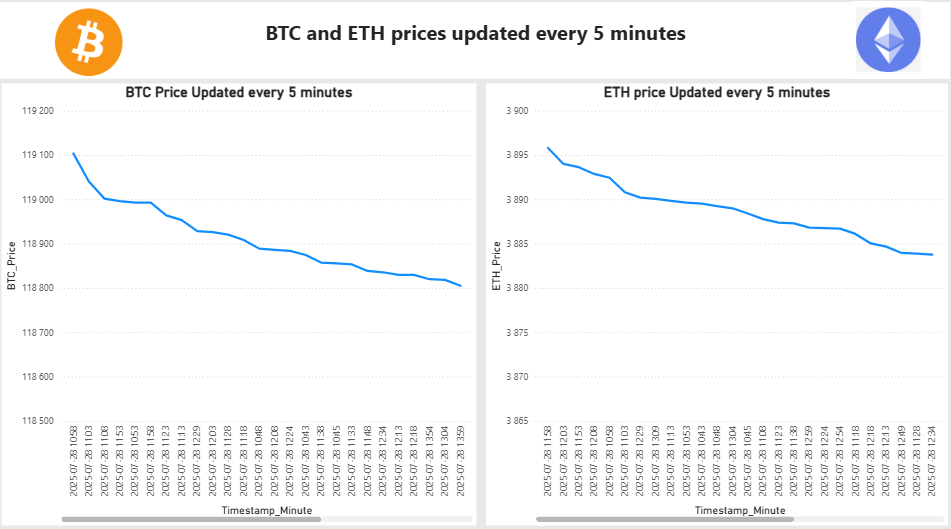

What the dashboard file says about the page in this screenshot:
{"tool":"powerbi","page":{"name":"Page 1","canvas":[1280,720],"ordinal":0},"visuals":[{"type":"image","box":[0,0,1279.4,720],"z":0},{"type":"lineChart","title":"BTC Price Updated every 5 minutes","fields":{"Y":["Min(Crypto_API_5.quote.USD.price)"],"Category":["Crypto_API_5.Timestamp_Minute"]},"box":[9.4,113.4,633.1,589.6],"z":1000},{"type":"lineChart","title":"ETH price Updated every 5 minutes","fields":{"Category":["Crypto_API_5.Timestamp_Minute"],"Y":["Avg(Crypto_API_5.quote.USD.price)"]},"box":[655.8,113.4,616.1,589.6],"z":2000},{"type":"textbox","box":[175.7,22.7,931.7,47.2],"z":3000},{"type":"image","box":[75.6,3.8,100.2,109.6],"z":3001},{"type":"image","box":[1143.3,3.8,96.4,103.9],"z":3002}]}

Visuals, with their boxes in screenshot pixels (x1, y1, x2, y2), scaled from the page's 1280x720 canvas onto the 951x529 screenshot:
image: <bbox>0, 0, 950, 528</bbox>
"BTC Price Updated every 5 minutes" lineChart: <bbox>7, 83, 477, 517</bbox>
"ETH price Updated every 5 minutes" lineChart: <bbox>487, 83, 945, 517</bbox>
textbox: <bbox>131, 17, 823, 51</bbox>
image: <bbox>56, 3, 131, 83</bbox>
image: <bbox>849, 3, 921, 79</bbox>
